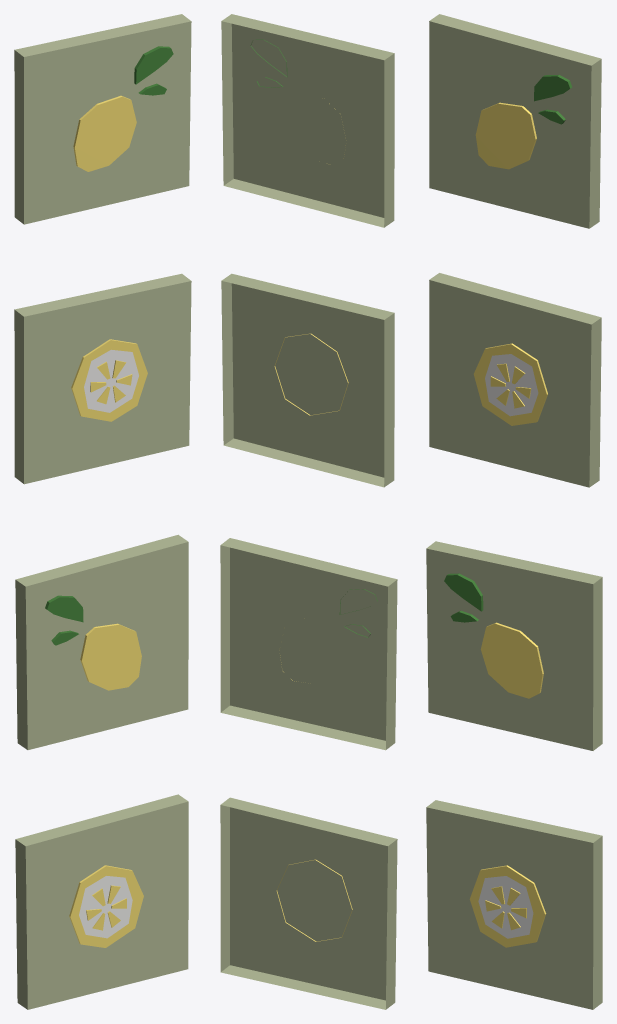
Rendered from Picture_22.fbx.
3 views of the same model, side by side, from view 1: azimuth 30°, elevation 25°; view 2: azimuth 150°, elevation 25°; view 3: azimuth 330°, elevation 25° (orthographic).
Visible parts, largest first — view 1: Picture_22; view 2: Picture_22; view 3: Picture_22.
Part boxes in pixels (box(x1,y1,x2,y2)): Picture_22: box(14, 14, 191, 1009); Picture_22: box(220, 14, 397, 1009); Picture_22: box(426, 14, 602, 1009).
Size of the model in its own units: 31.73 by 4.6 by 173.
